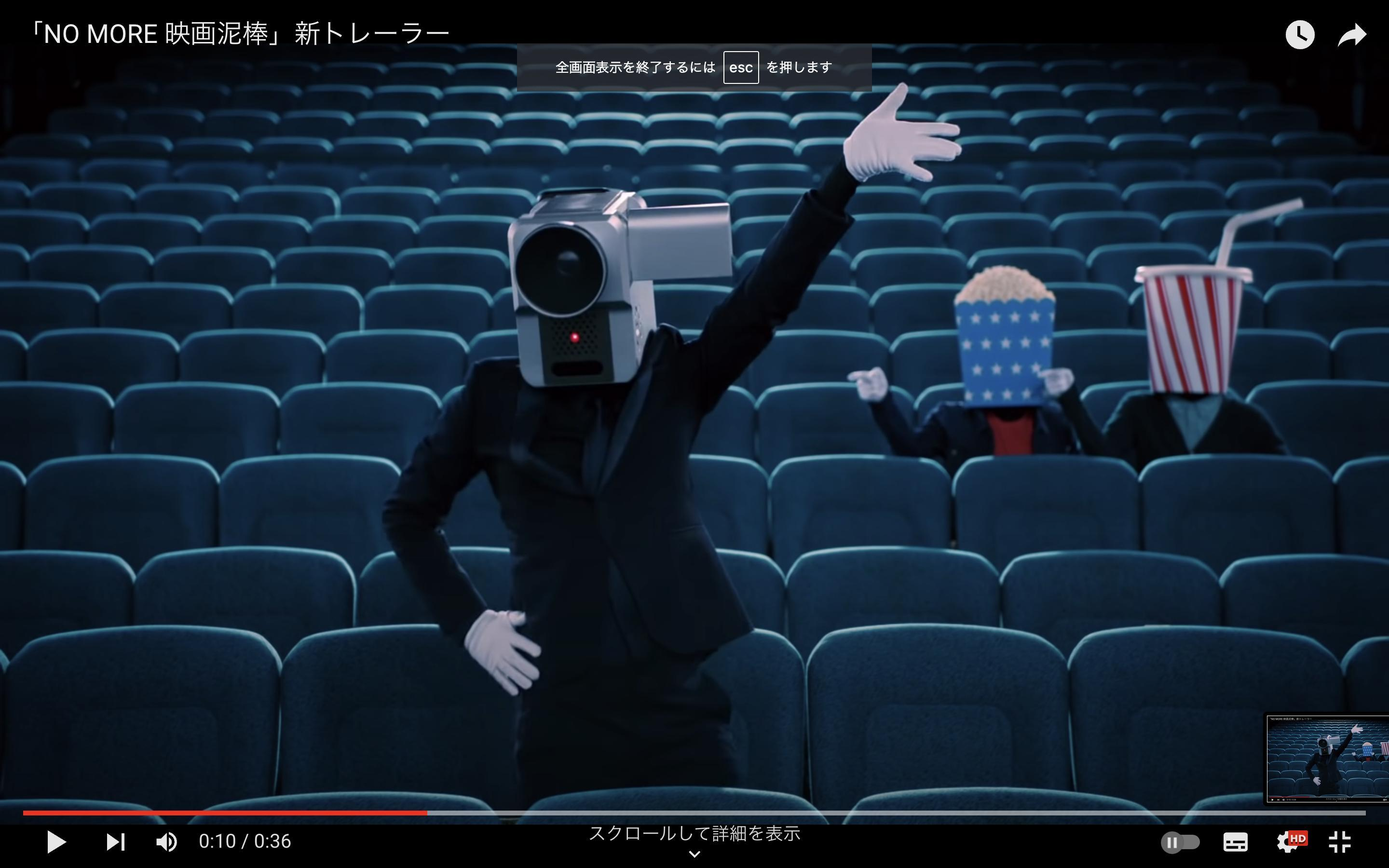no more kid: (490, 172, 756, 402)
